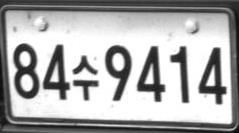1: (168, 45, 195, 103)
4: (136, 45, 166, 102), (198, 46, 226, 105), (42, 43, 70, 100)
8: (12, 42, 40, 100)
9: (104, 44, 131, 101)
수: (72, 54, 99, 100)
